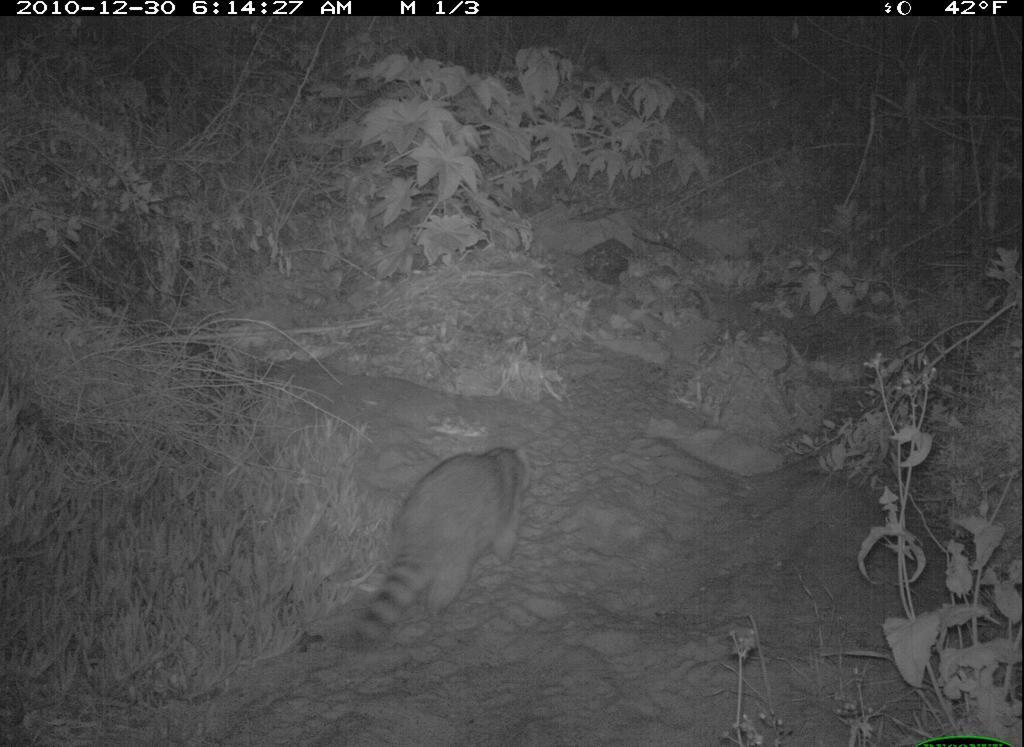raccoon: (341, 433, 534, 649)
